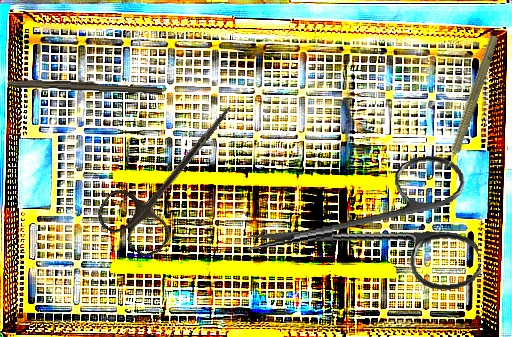Handpiece: (436, 32, 502, 179)
Iris Scissors: (239, 151, 483, 314), (91, 81, 257, 264)
Scalpel Handle: (7, 77, 163, 95)
